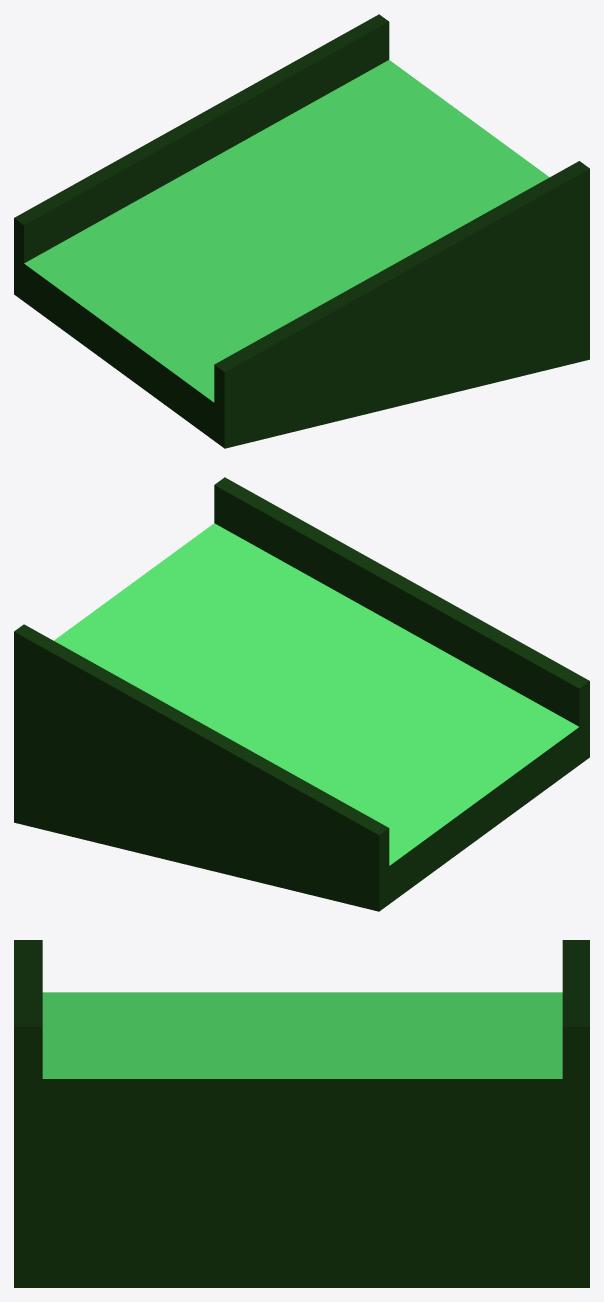
File: MG Ramp 2.fbx
3 views of the same model, one above another, from view 1: azimuth 30°, elevation 25°; view 2: azimuth 150°, elevation 25°; view 3: azimuth 270°, elevation 25° (orthographic). The views are drawn at different scales.
Parts seen in each view (by area): view 1: MG Ramp 2; view 2: MG Ramp 2; view 3: MG Ramp 2.
Boxes of the visible parts, <box> form: MG Ramp 2: <box>14,14,589,448</box>; MG Ramp 2: <box>14,477,589,911</box>; MG Ramp 2: <box>14,940,589,1287</box>.
Size of the model in its own units: 200 by 100 by 200.
